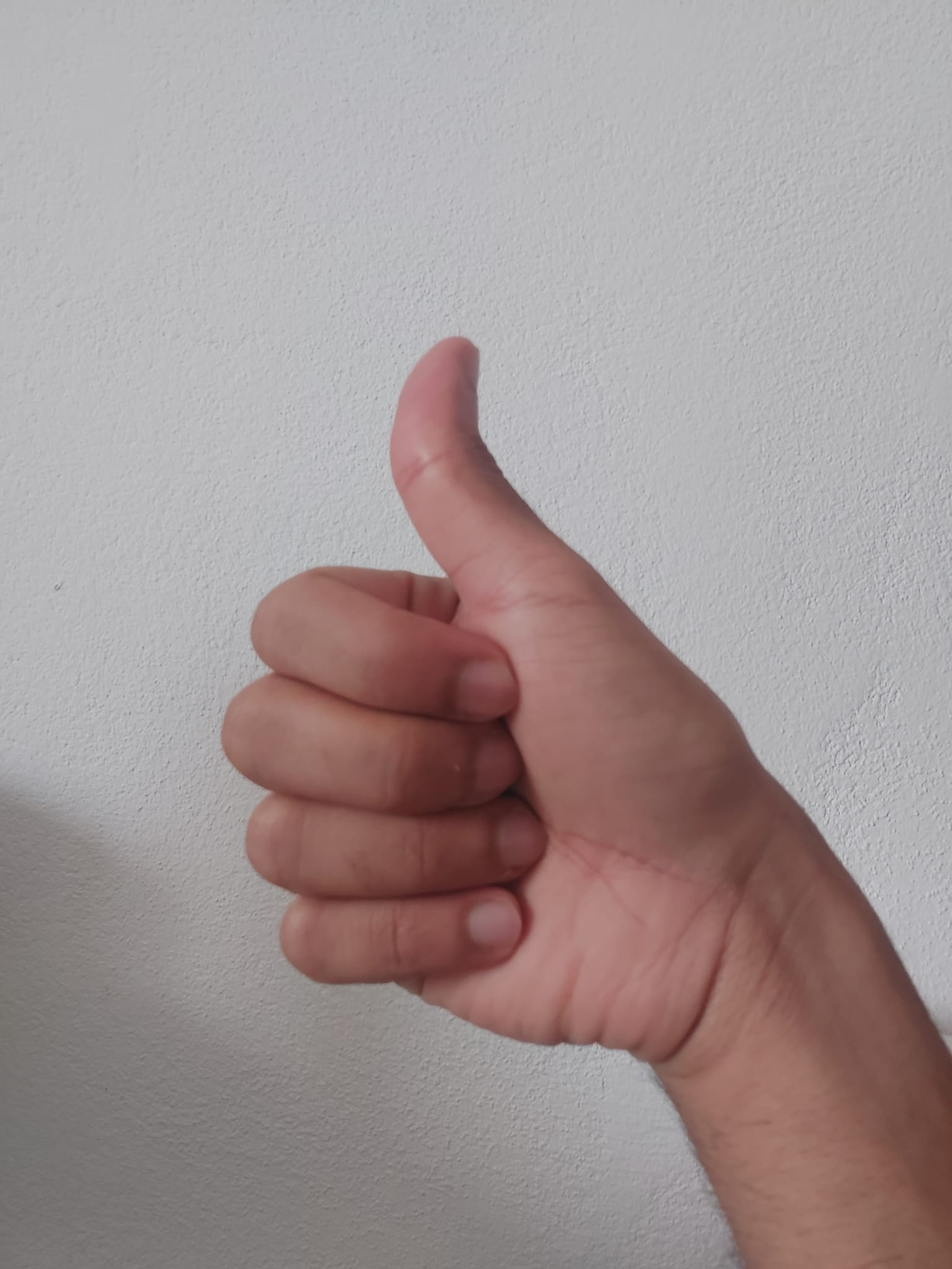Thumbs up: (197, 277, 798, 1087)
